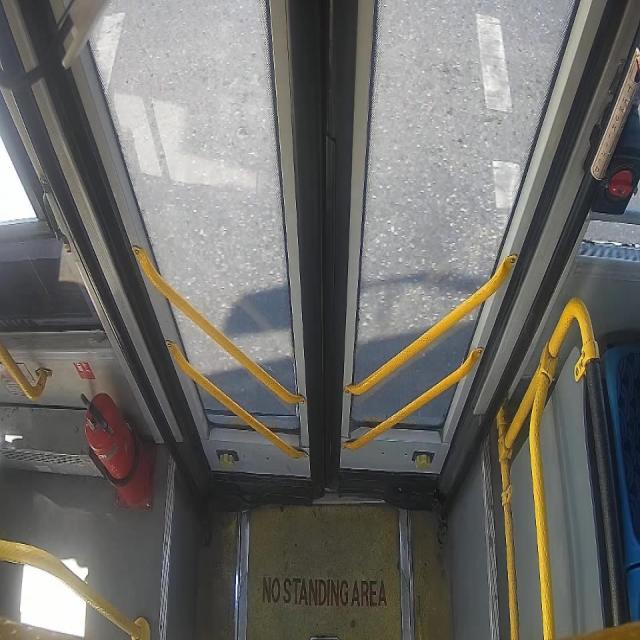close: (75, 2, 578, 488)
